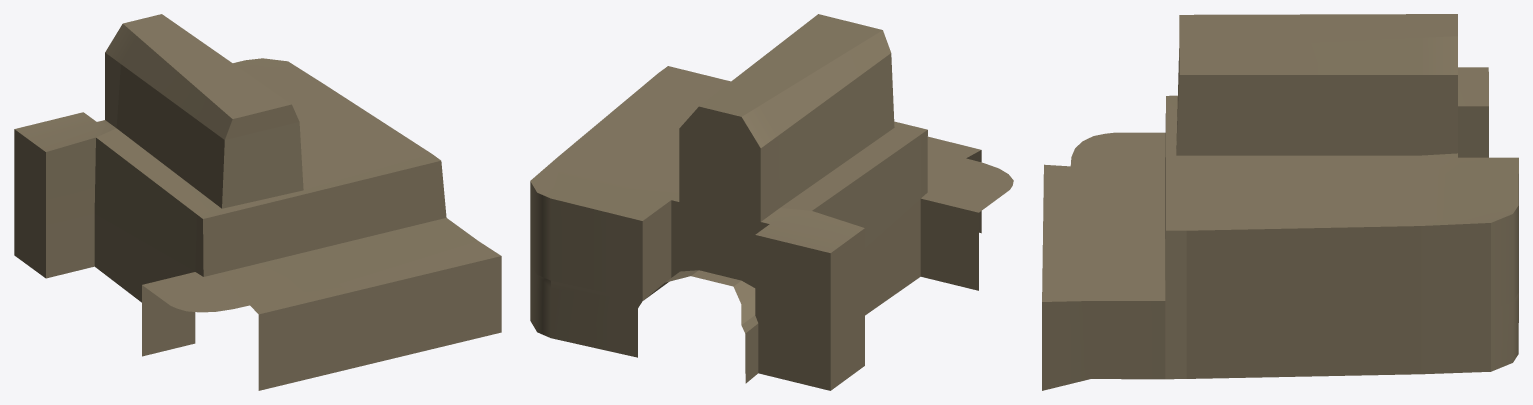
The model's file is Outside Shell.fbx.
3 renders of one model, left to right at view 1: azimuth 30°, elevation 25°; view 2: azimuth 150°, elevation 25°; view 3: azimuth 270°, elevation 25°, orthographic. The views are drawn at different scales.
Visible parts, largest first — view 1: Outside_Shell; view 2: Outside_Shell; view 3: Outside_Shell.
Part boxes in pixels (x1,y1,x2,y2): Outside_Shell: [14, 14, 501, 390]; Outside_Shell: [530, 14, 1013, 390]; Outside_Shell: [1042, 14, 1518, 390].
Size of the model in its own units: 1448 by 1049 by 1720.
